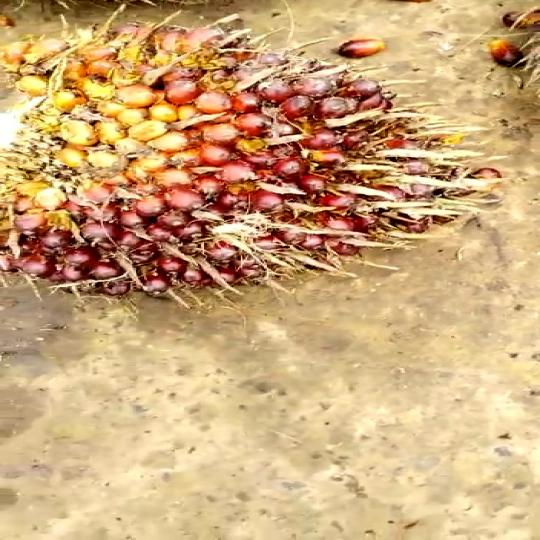masak: (0, 14, 497, 300)
